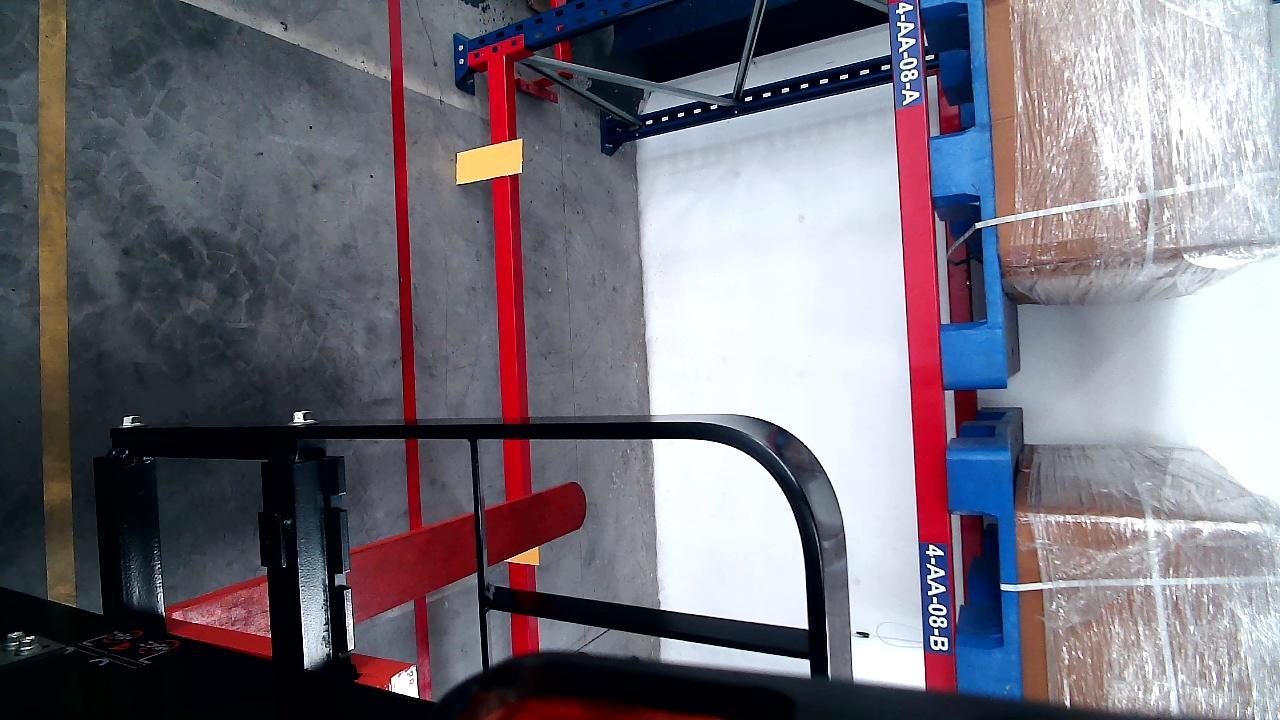red_line: (389, 1, 432, 707)
yellow_line: (38, 4, 73, 603)
